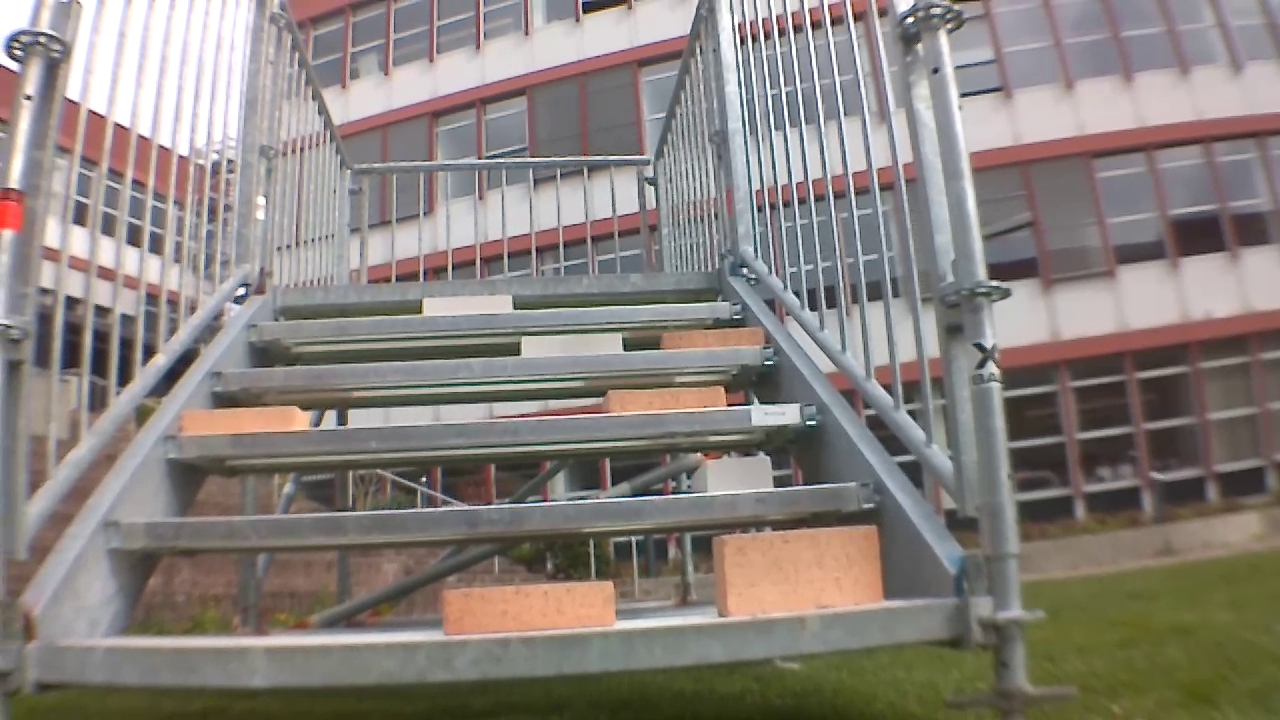brick: (713, 523, 881, 617), (438, 574, 616, 638), (176, 403, 309, 437), (603, 387, 725, 414), (517, 328, 636, 355), (695, 455, 770, 495), (666, 319, 761, 349), (416, 294, 522, 317)
edge: (45, 599, 971, 689), (108, 475, 889, 548), (165, 398, 815, 464), (203, 344, 785, 391), (242, 297, 756, 347), (271, 267, 729, 299)
stairs: (0, 0, 1063, 705)
steps: (0, 263, 966, 703)
